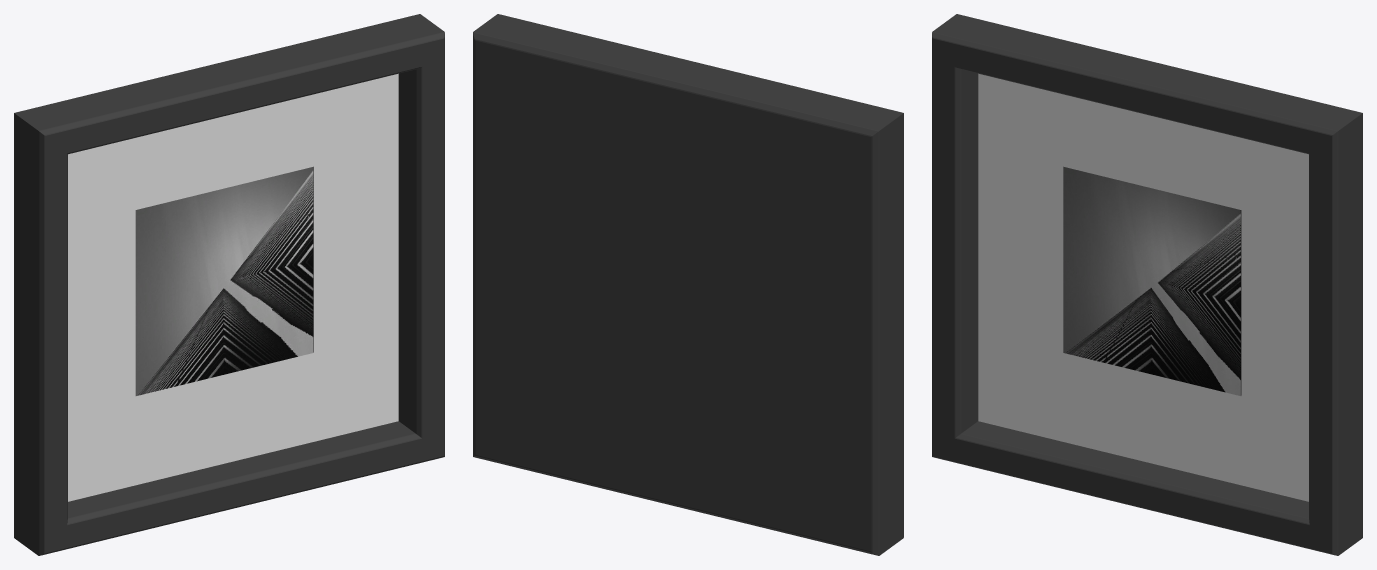
File: Frame08.glb
3 renders of one model, left to right at view 1: azimuth 30°, elevation 25°; view 2: azimuth 150°, elevation 25°; view 3: azimuth 330°, elevation 25°, orthographic.
Parts seen in each view (by area): view 1: BP_Frame08; view 2: BP_Frame08; view 3: BP_Frame08.
Part boxes in pixels (<box>): BP_Frame08: <box>14,14,444,555</box>; BP_Frame08: <box>473,14,903,555</box>; BP_Frame08: <box>932,14,1362,555</box>.
Size of the model in its own units: 0.2603 by 0.2603 by 0.0335.
Materials: 4 (1 with a texture image).
